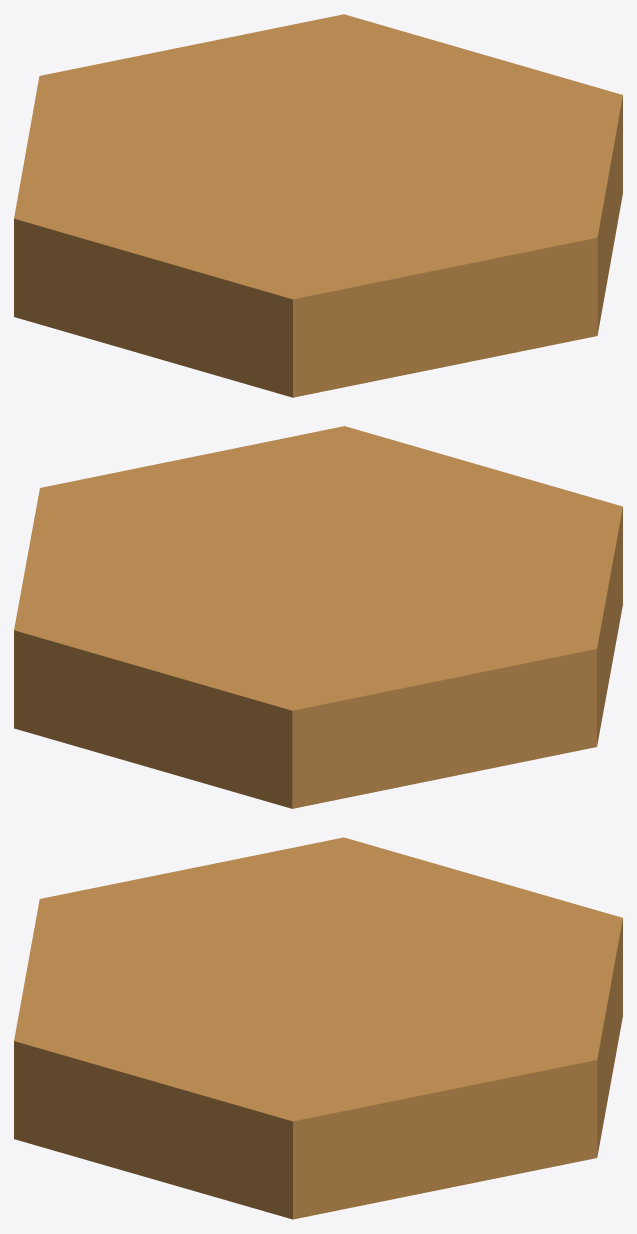
The model's file is SM_Item_Coins_04.glb.
3 views of the same model, one above another, from view 1: azimuth 30°, elevation 25°; view 2: azimuth 150°, elevation 25°; view 3: azimuth 270°, elevation 25° (orthographic).
Visible parts, largest first — view 1: SM_Item_Coins_04; view 2: SM_Item_Coins_04; view 3: SM_Item_Coins_04.
Boxes of the visible parts, box(x1,y1,x2,y2) form: SM_Item_Coins_04: box(14, 14, 622, 397); SM_Item_Coins_04: box(14, 426, 622, 808); SM_Item_Coins_04: box(14, 837, 622, 1219).
Size of the model in its own units: 0.000845 by 0.000136 by 0.000765.
Materials: 1 (1 with a texture image).
